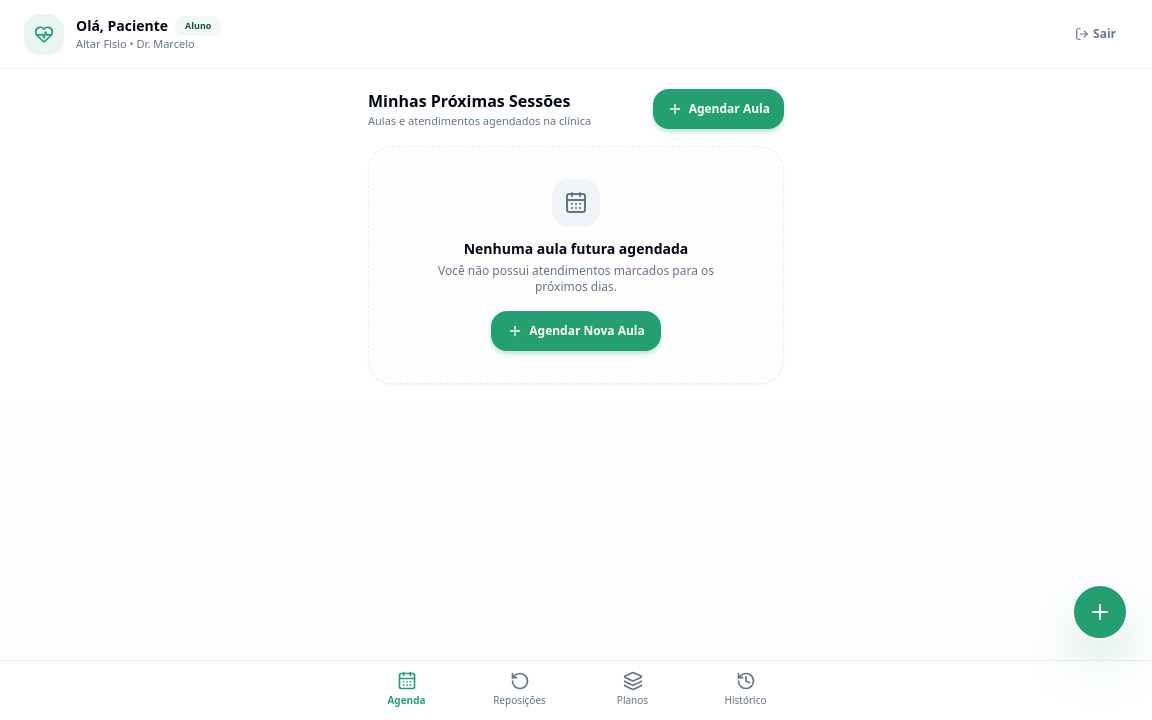
Test case: monthly booking offers five frequencies and actual classes
This screenshot has width=1152, height=720.
Step 1. Click the button "Agendar Aula" → (718, 109), box x1=653 y1=89 x2=784 y2=129
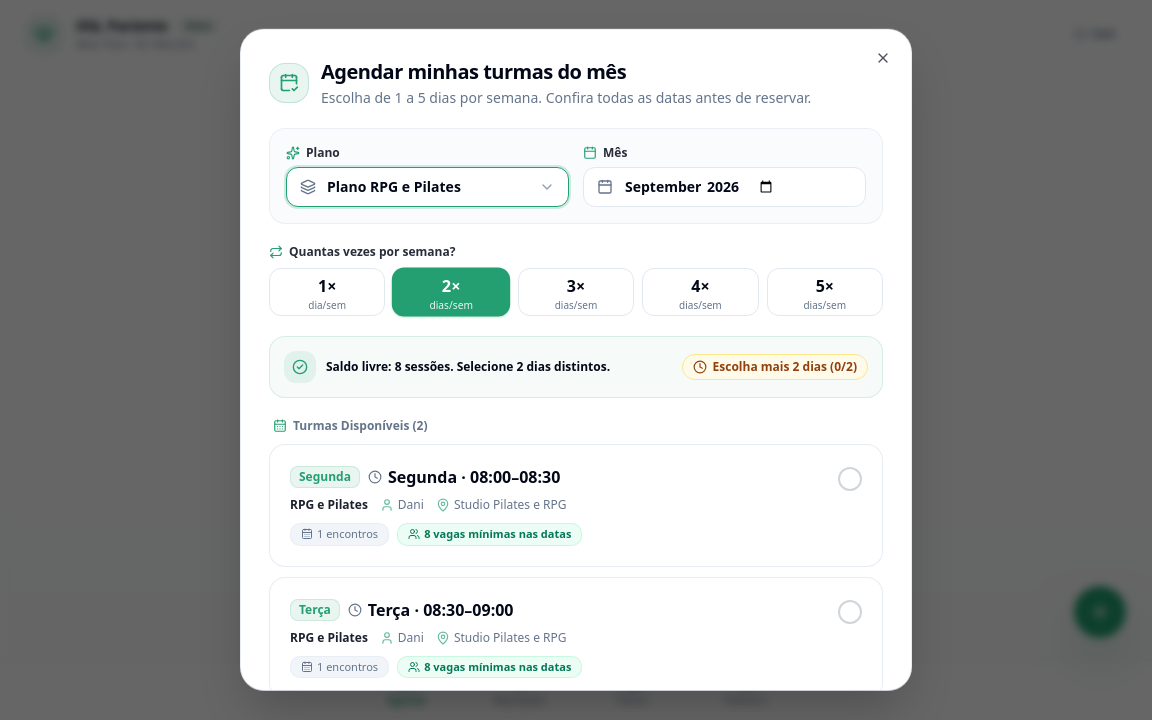
Expected: the button "1× dia/sem" is shown, x1=269 y1=268 x2=385 y2=316
Expected: the text "Segunda · 08:00–08:30" is shown, x1=388 y1=465 x2=560 y2=489
Expected: the text "Terça · 08:30–09:00" is shown, x1=368 y1=597 x2=514 y2=621
